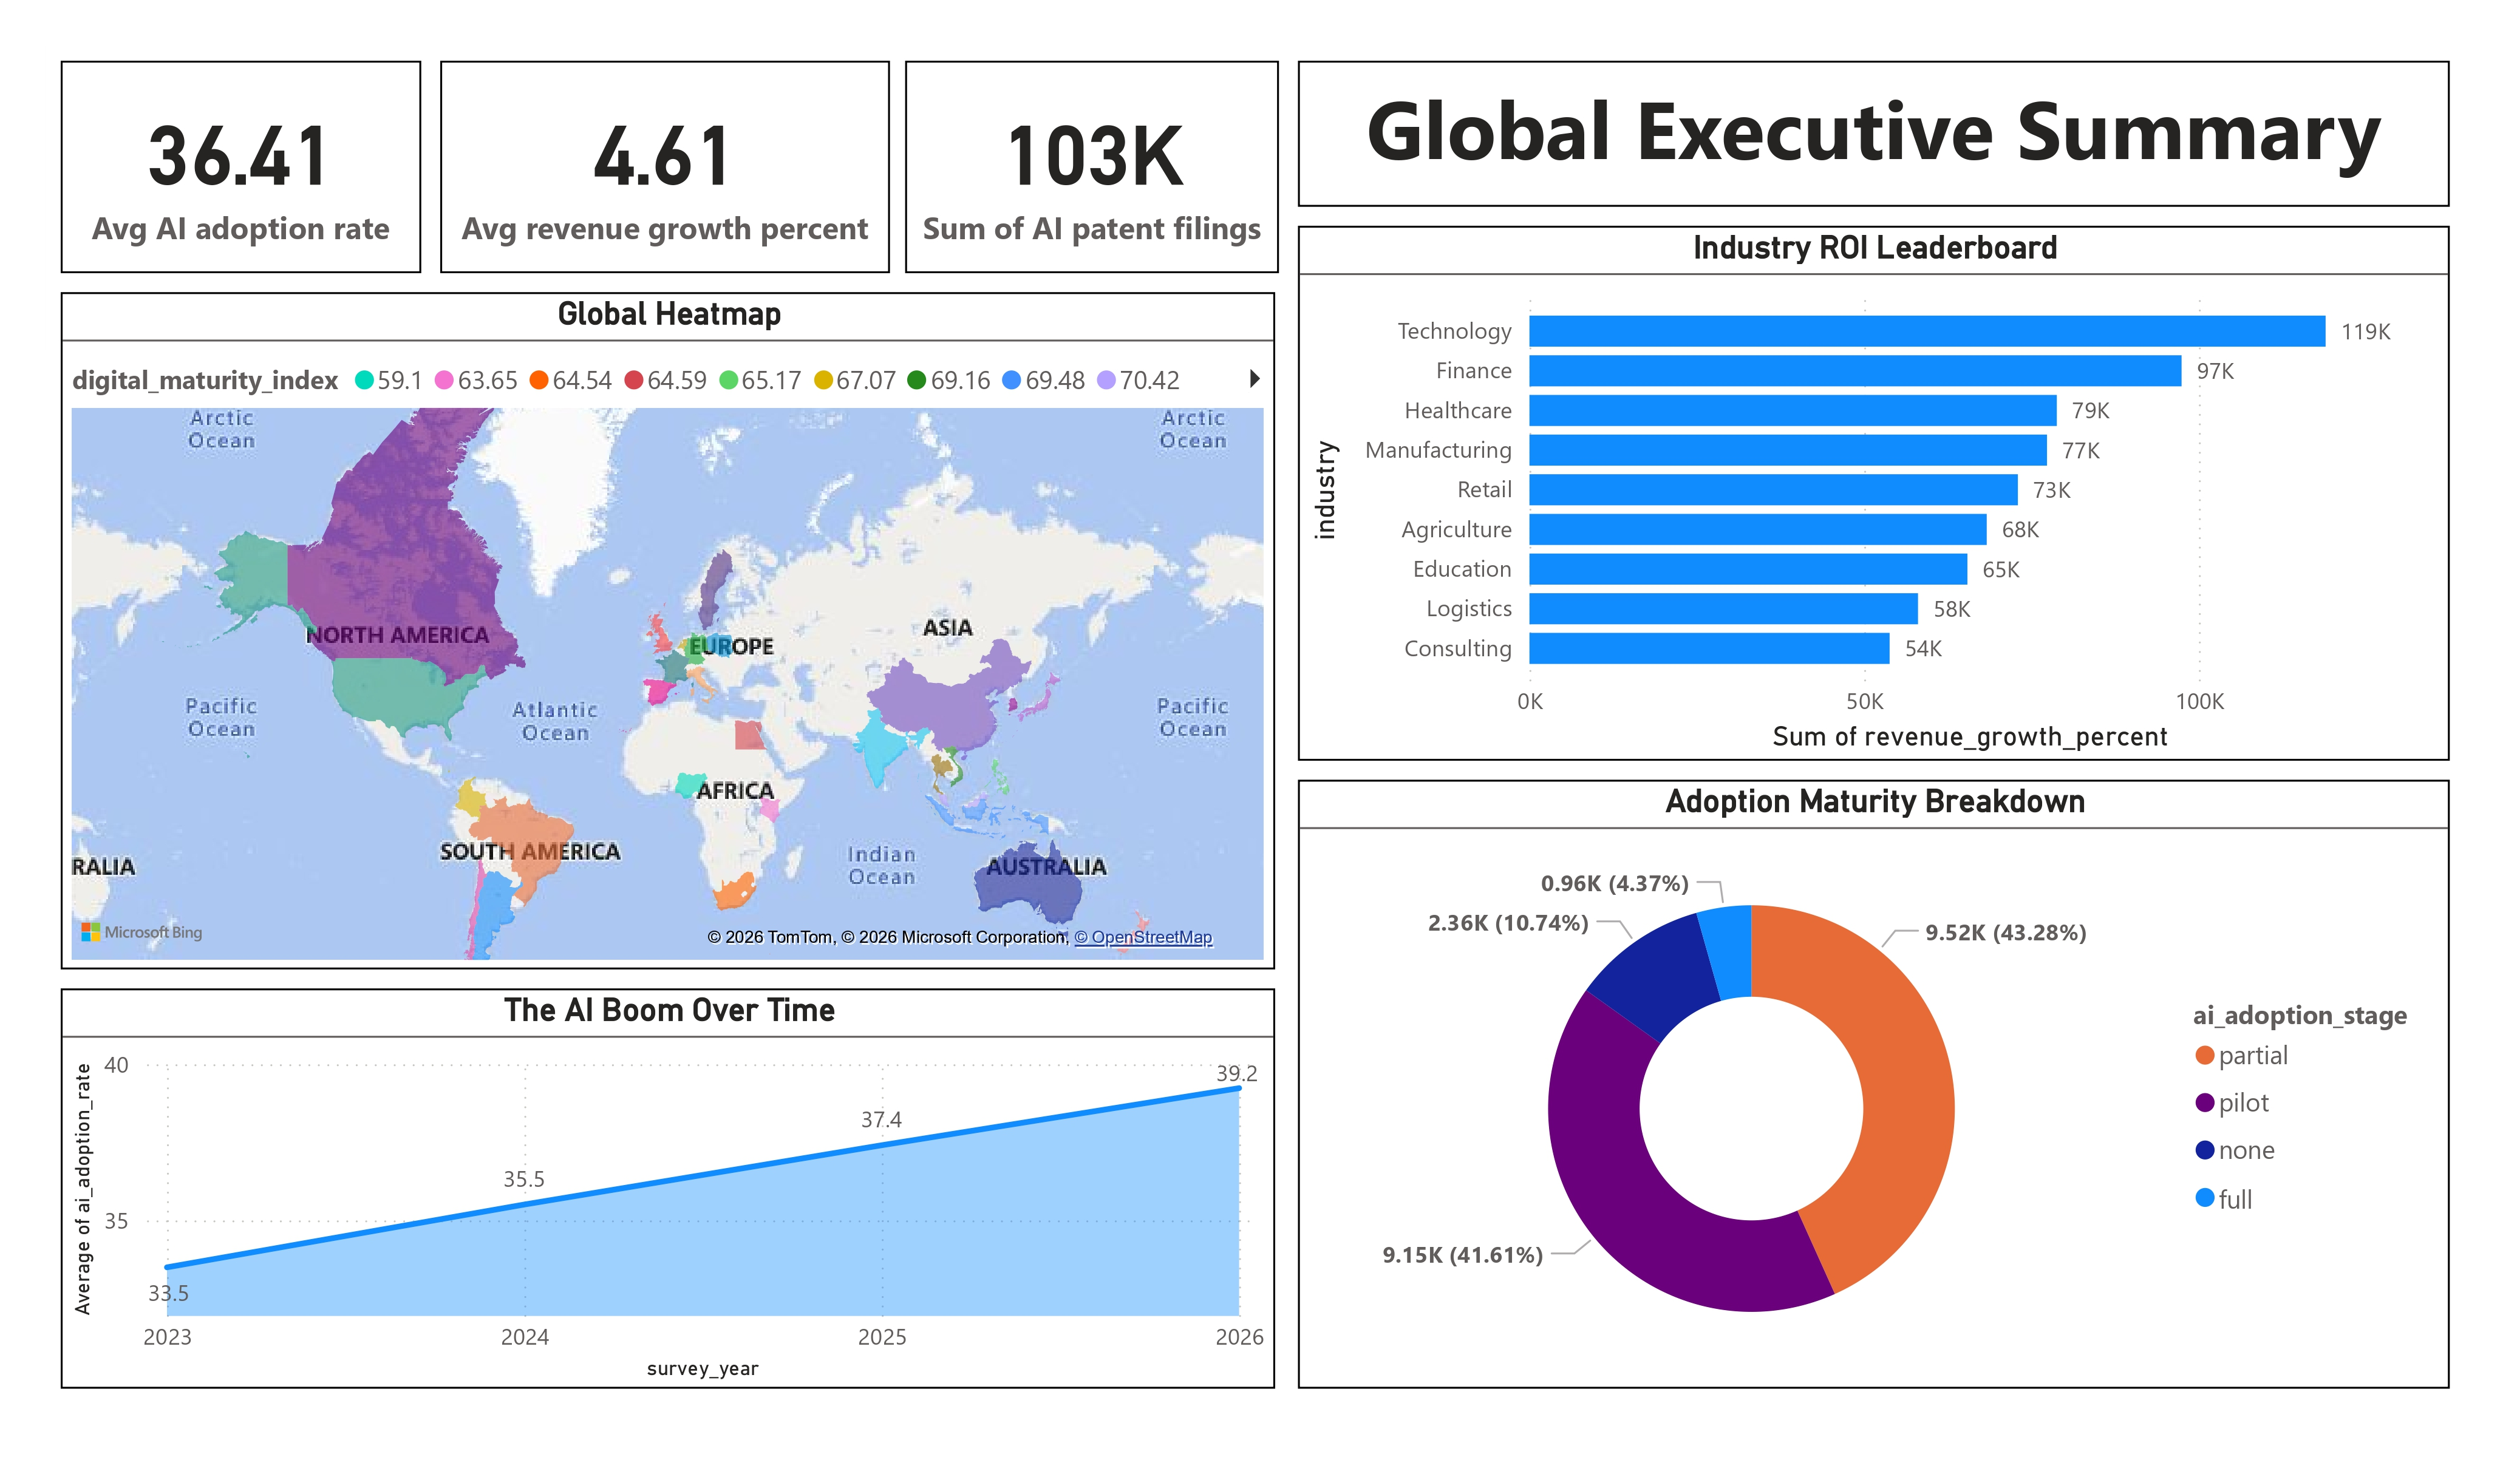

What the dashboard file says about the page in this screenshot:
{"tool":"powerbi","page":{"name":"Page 1","canvas":[1280,720],"ordinal":0},"visuals":[{"type":"card","fields":{"Values":["Avg(ai_company_adoption.ai_adoption_rate)"]},"box":[8.3,8.3,190,111.7],"z":0},{"type":"card","fields":{"Values":["Avg(ai_company_adoption.revenue_growth_percent)"]},"box":[208.3,8.3,236.7,111.7],"z":1000},{"type":"card","fields":{"Values":["Sum(country_ai_index.ai_patent_filings_2024)"]},"box":[453.3,8.3,196.7,111.7],"z":2000},{"type":"textbox","box":[660,8.3,606.7,76.7],"z":3000},{"type":"filledMap","title":"Global Heatmap","fields":{"Category":["country_ai_index.country"],"Series":["country_ai_index.digital_maturity_index"]},"box":[8.3,130,640,356.7],"z":4000},{"type":"clusteredBarChart","title":"Industry ROI Leaderboard","fields":{"Y":["Sum(ai_company_adoption.revenue_growth_percent)"],"Category":["ai_company_adoption.industry"]},"box":[660,95,606.7,281.7],"z":5000},{"type":"donutChart","title":"Adoption Maturity Breakdown","fields":{"Category":["ai_company_adoption.ai_adoption_stage"],"Y":["Count(ai_company_adoption.company_id)"]},"box":[660,386.7,606.7,321.7],"z":6000},{"type":"lineChart","title":"The AI Boom Over Time","fields":{"Category":["ai_company_adoption.survey_year"],"Y":["Avg(ai_company_adoption.ai_adoption_rate)"]},"box":[8.3,496.7,640,211.7],"z":7000}]}

Visuals, with their boxes in screenshot pixels (x1, y1, x2, y2):
card - Avg(ai_company_adoption.ai_adoption_rate): box(68, 61, 424, 271)
card - Avg(ai_company_adoption.revenue_growth_percent): box(443, 61, 886, 271)
card - Sum(country_ai_index.ai_patent_filings_2024): box(901, 61, 1270, 271)
textbox: box(1289, 61, 2425, 205)
"Global Heatmap" filledMap: box(68, 290, 1267, 957)
"Industry ROI Leaderboard" clusteredBarChart: box(1289, 224, 2425, 751)
"Adoption Maturity Breakdown" donutChart: box(1289, 770, 2425, 1372)
"The AI Boom Over Time" lineChart: box(68, 976, 1267, 1372)
